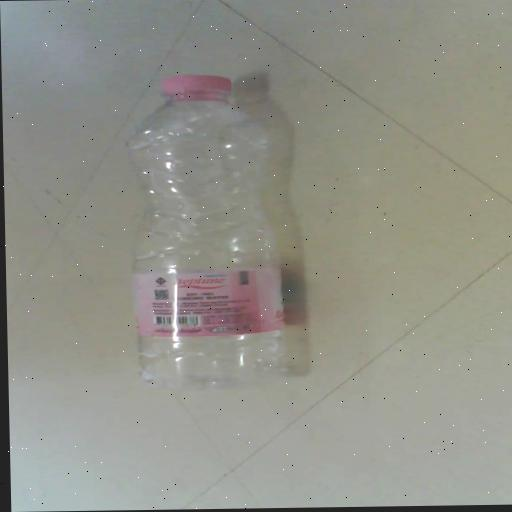bottle: (88, 54, 317, 408)
